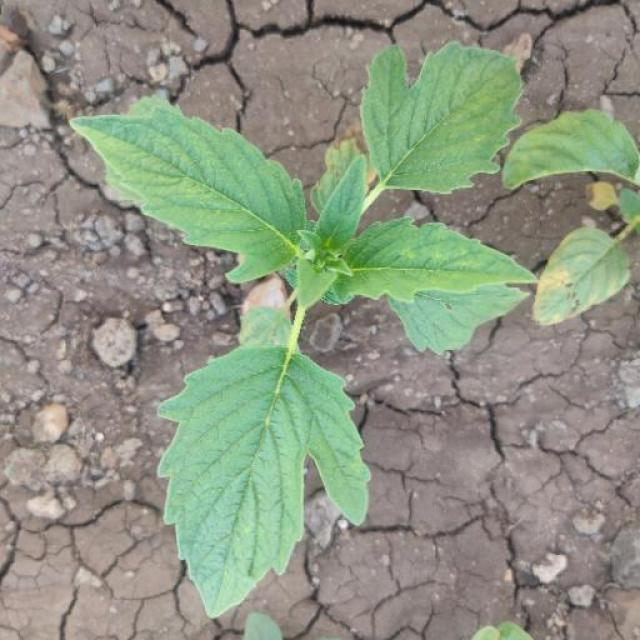crop: (62, 35, 550, 640)
